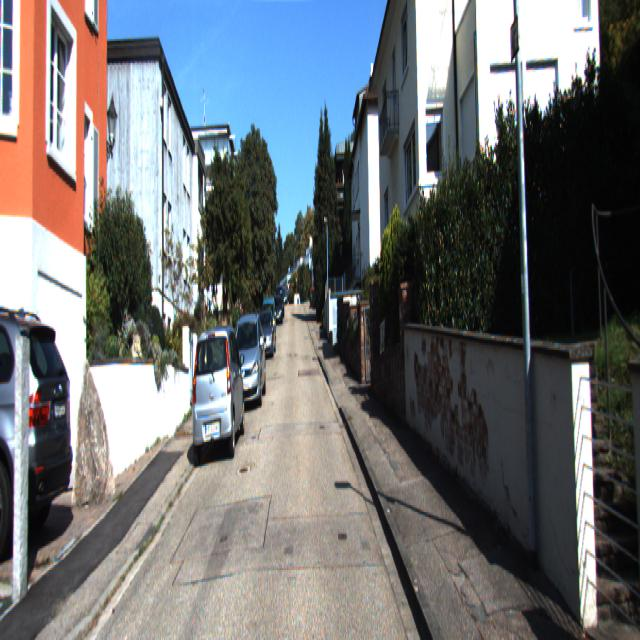Car: (0, 307, 74, 567), (189, 317, 246, 465), (226, 314, 268, 413), (255, 308, 276, 358)
